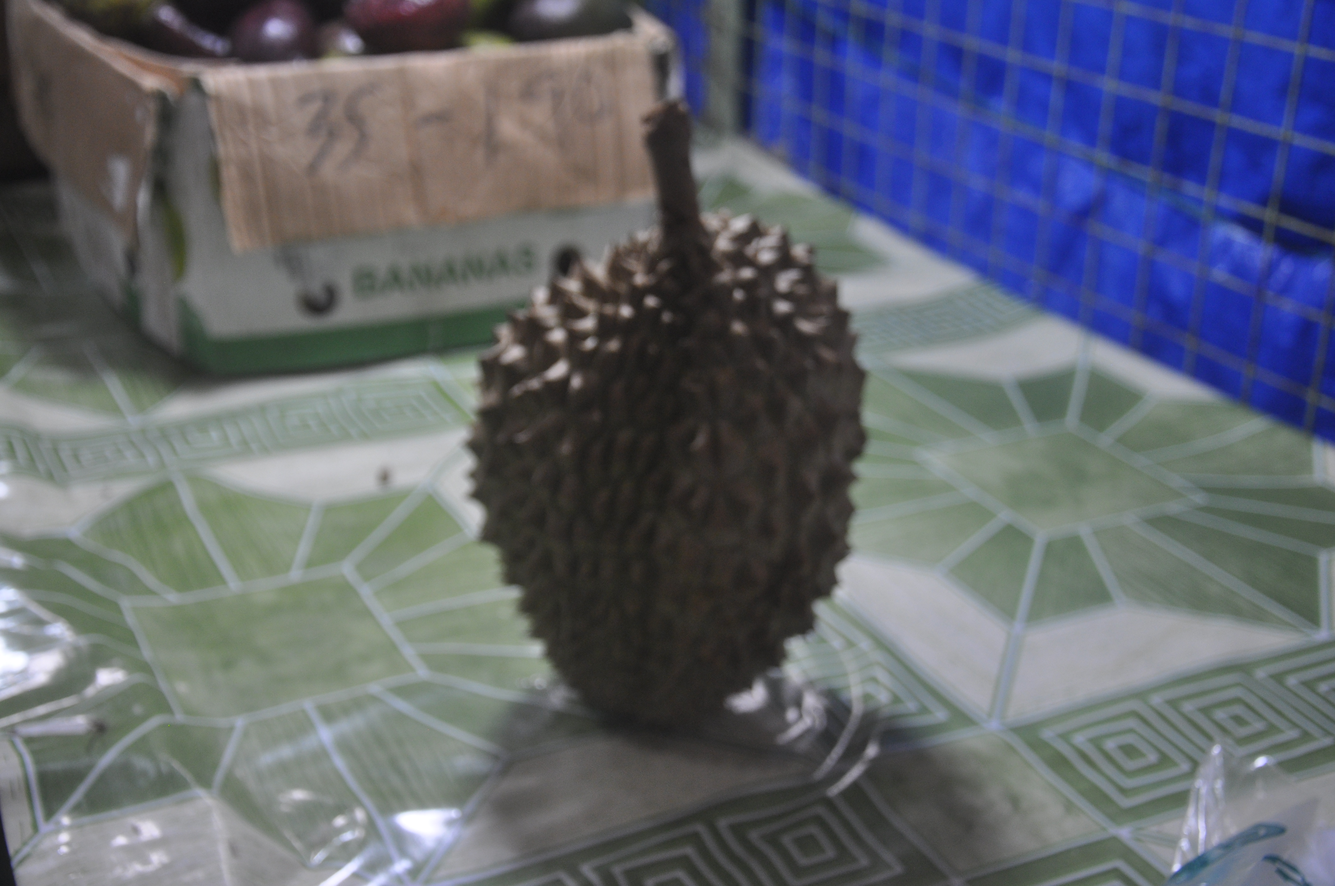mature: (469, 102, 865, 724)
